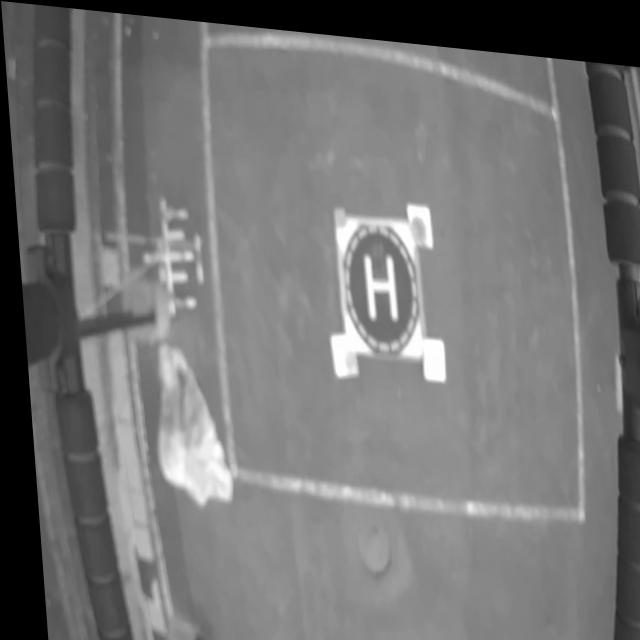Helipad: (359, 246, 392, 312)
